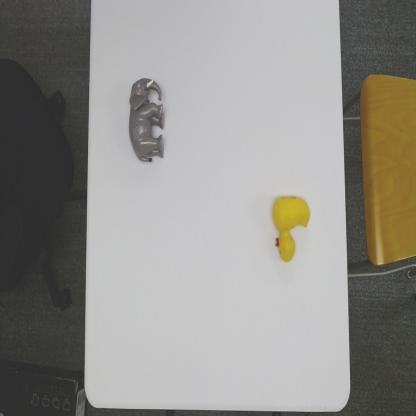Duck: (272, 190, 312, 266)
Elephant: (126, 71, 168, 168)
